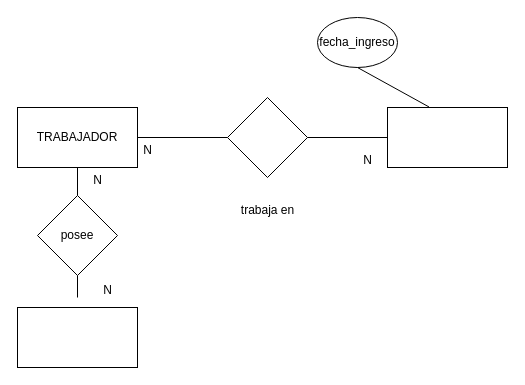
Image size: 525x385. Some labels were removed from this diagram. The shapes that lost their labels are listed below. From the top down, each one's centre as x and y in pixels, then its label:
(447,137): EMPRESA
(77,337): ART
